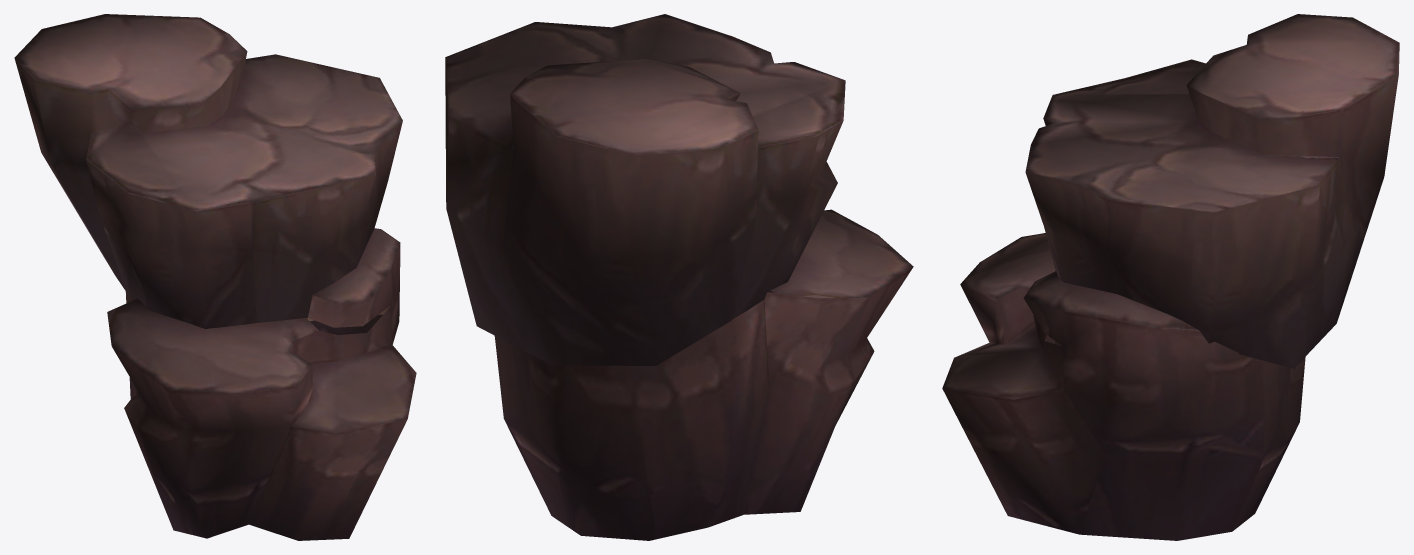
The model's file is huoshan_shitou03.fbx.
3 views of the same model, side by side, from view 1: azimuth 30°, elevation 25°; view 2: azimuth 150°, elevation 25°; view 3: azimuth 270°, elevation 25° (orthographic). The views are drawn at different scales.
Visible parts, largest first — view 1: huoshan_shitou03; view 2: huoshan_shitou03; view 3: huoshan_shitou03.
Boxes of the visible parts, <box> form: huoshan_shitou03: <box>14,14,416,540</box>; huoshan_shitou03: <box>445,14,913,540</box>; huoshan_shitou03: <box>942,14,1399,540</box>.
Size of the model in its own units: 3.36 by 4.11 by 4.12.
